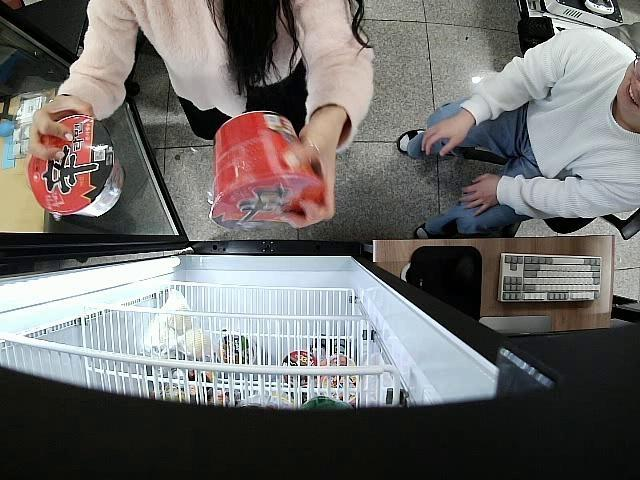01_ShinRamen_L: (212, 110, 328, 229), (30, 115, 126, 218)
